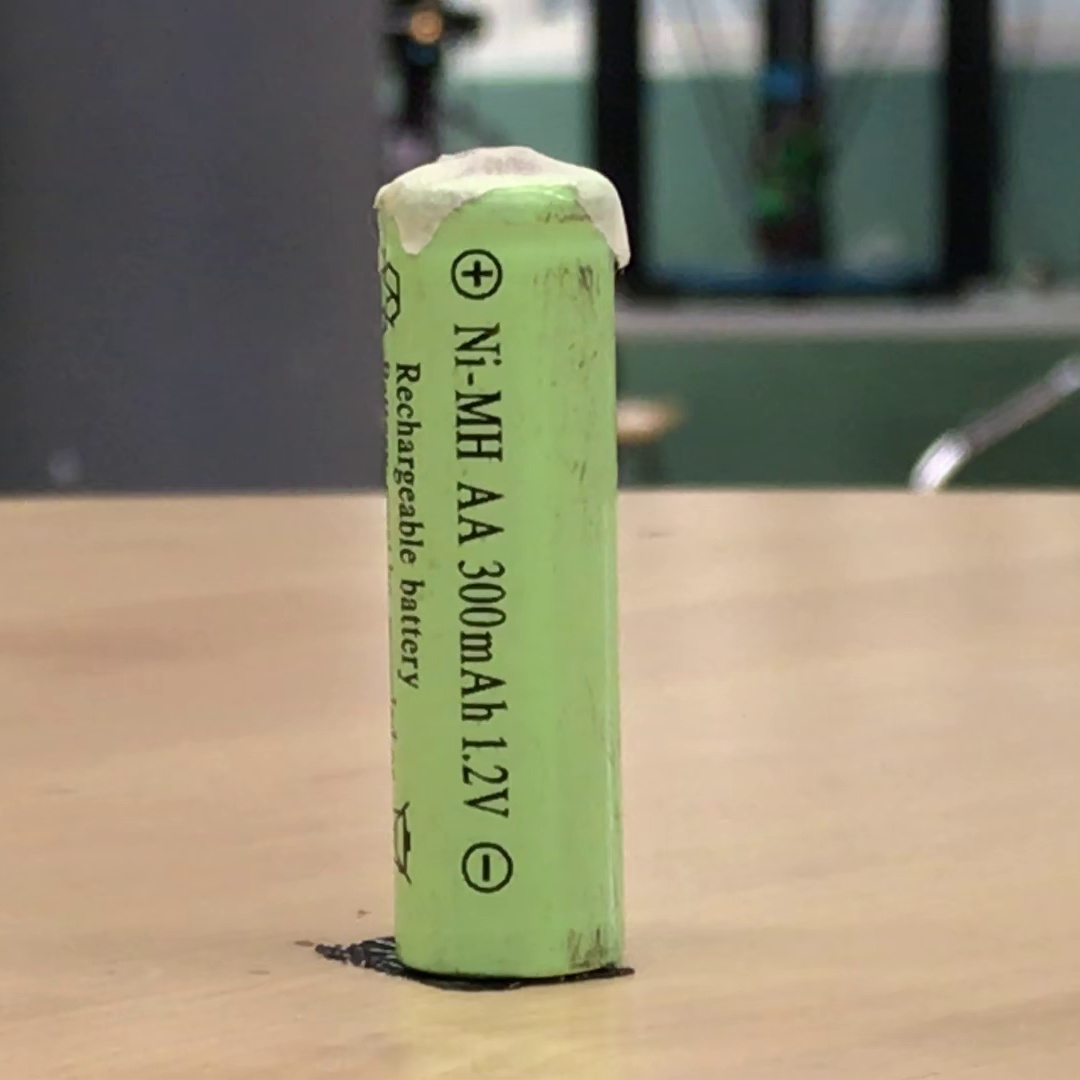keyword: (444, 313, 513, 465), (452, 727, 519, 828)
